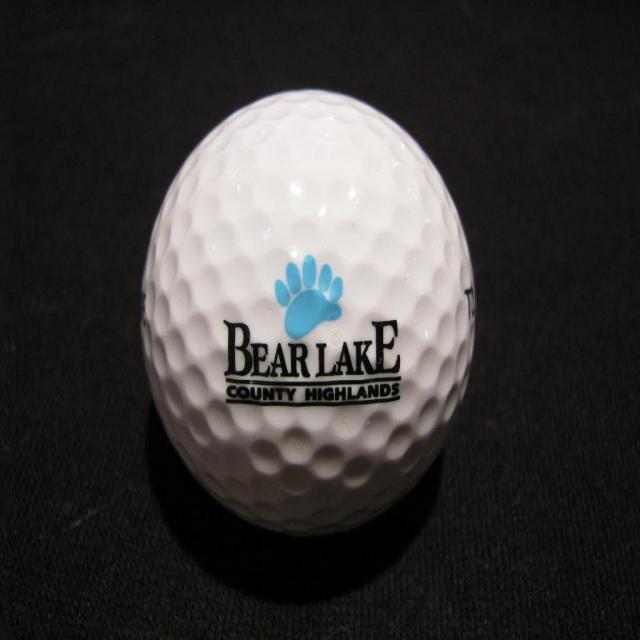GolfBall: (122, 80, 484, 546)
